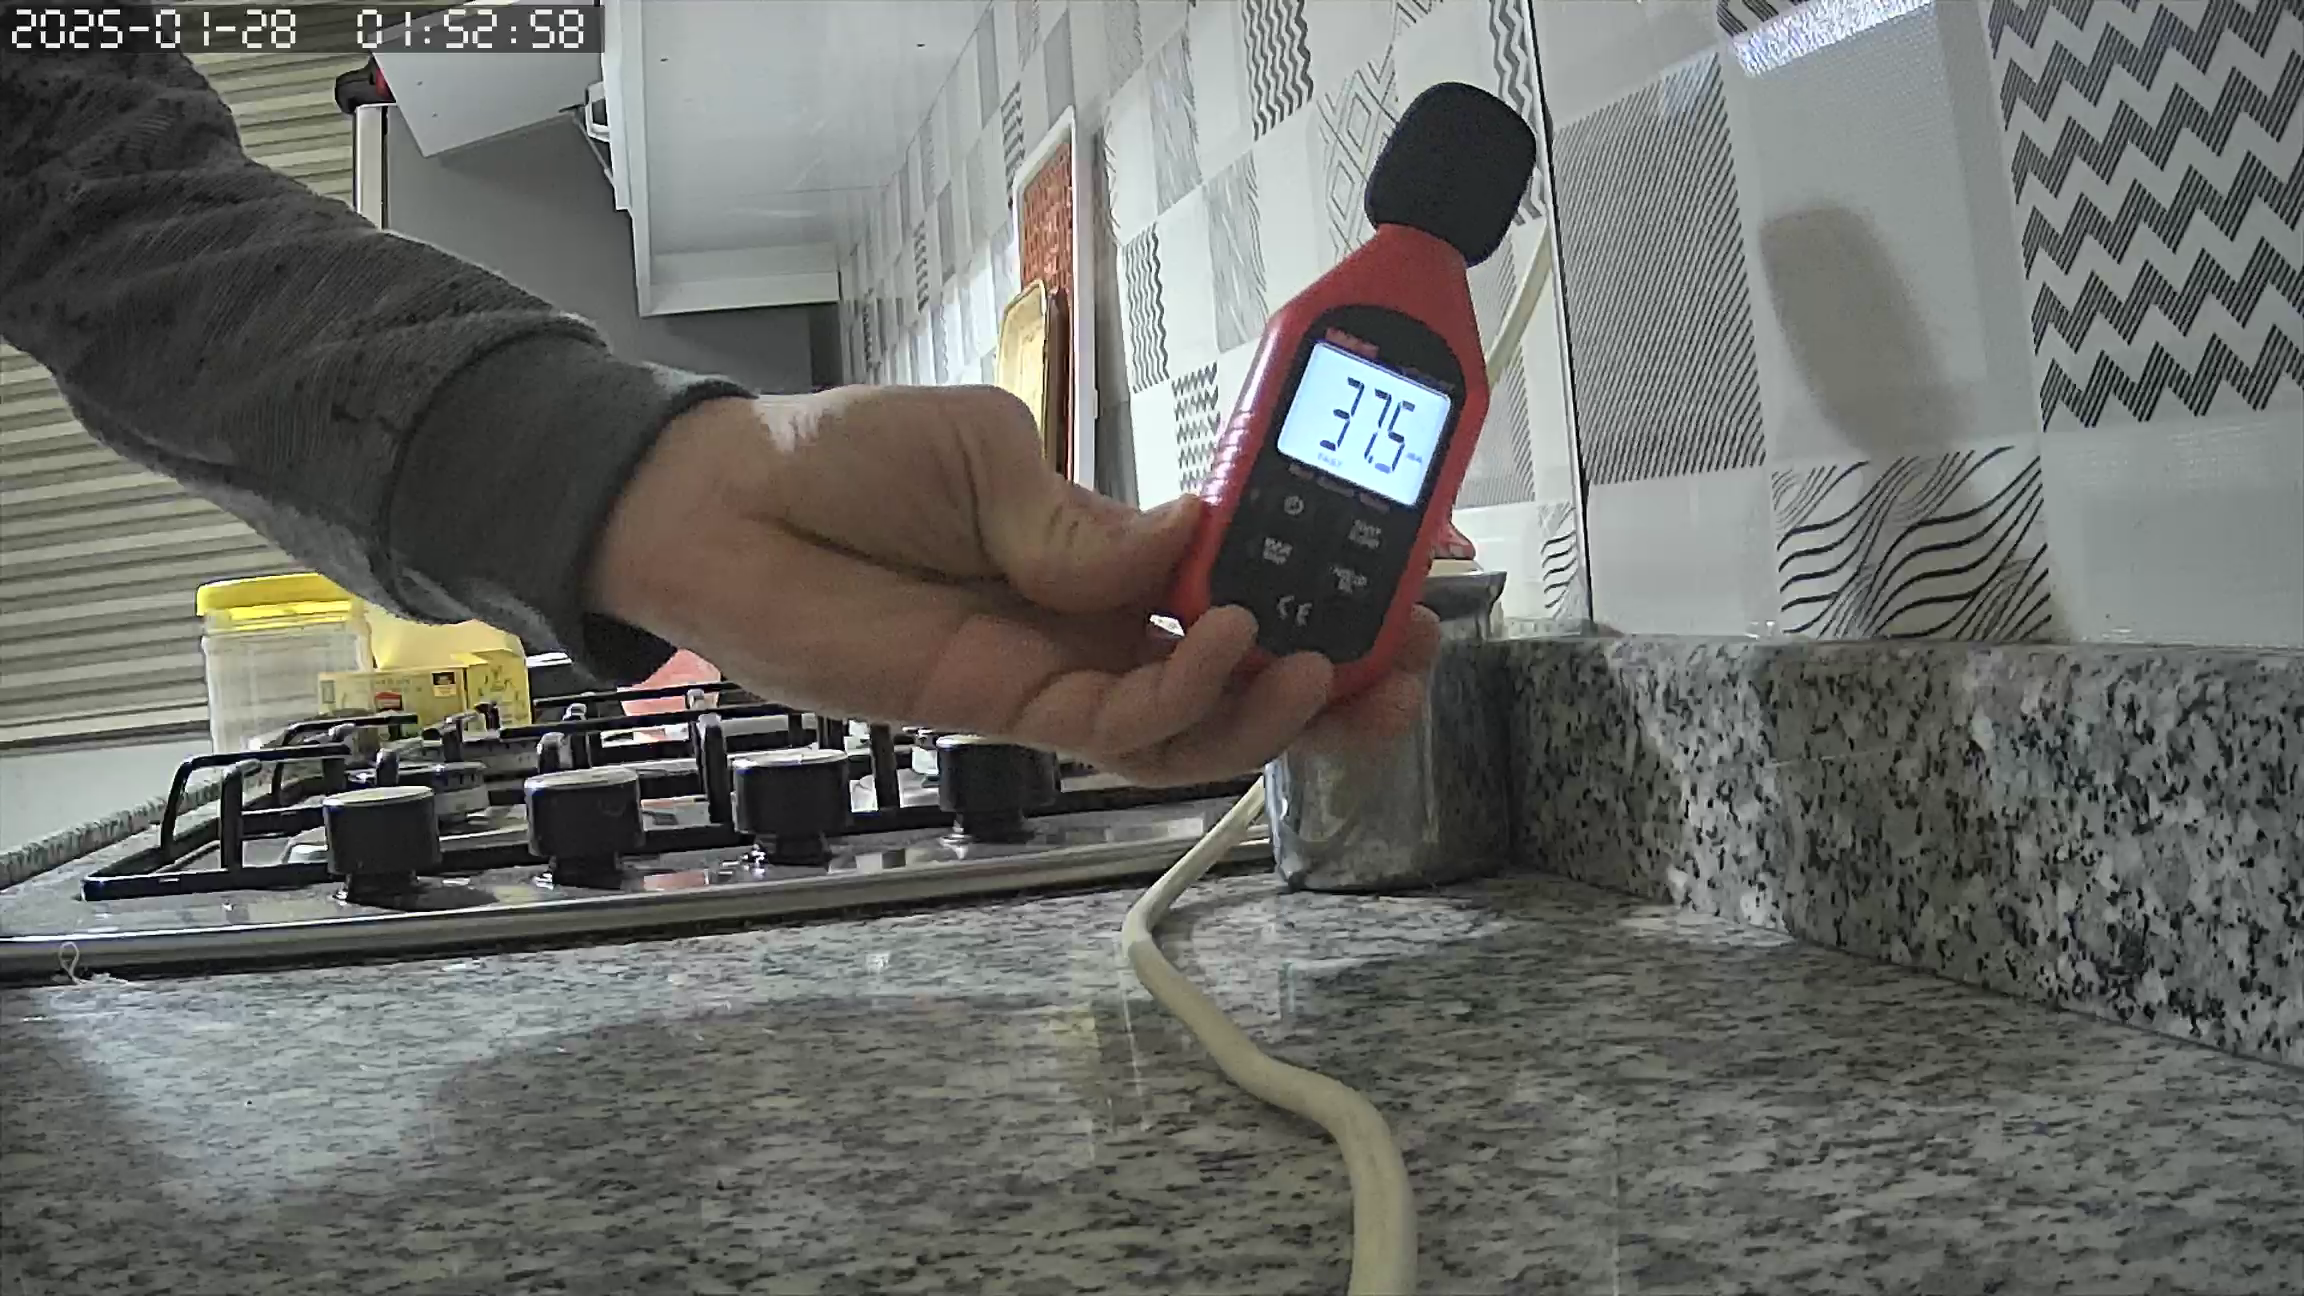screen: (1274, 337, 1451, 508)
